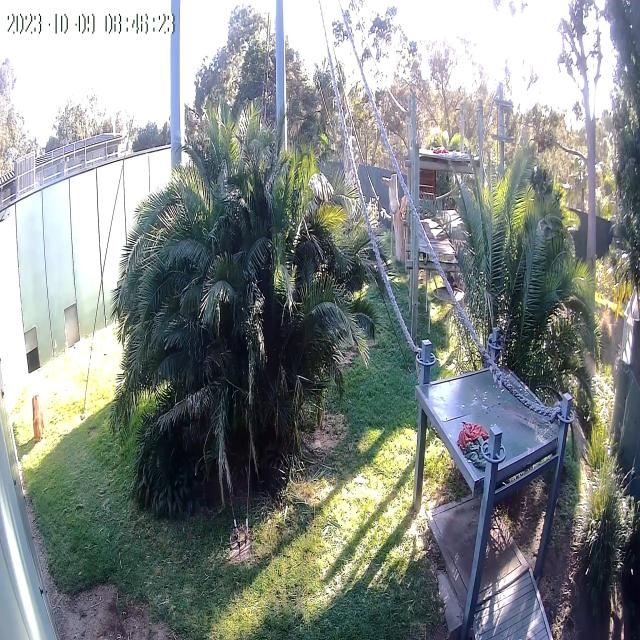orangutan: (32, 394, 45, 444)
